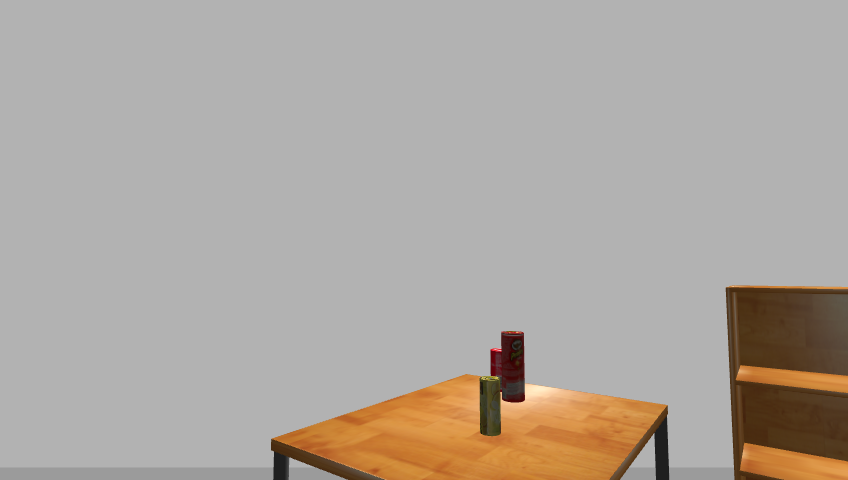biscuits pack: (478, 376, 503, 437)
bookshelf: (720, 285, 848, 480)
coke can: (488, 349, 504, 398)
dinner table: (265, 375, 681, 480)
pringles can: (500, 331, 526, 404)
